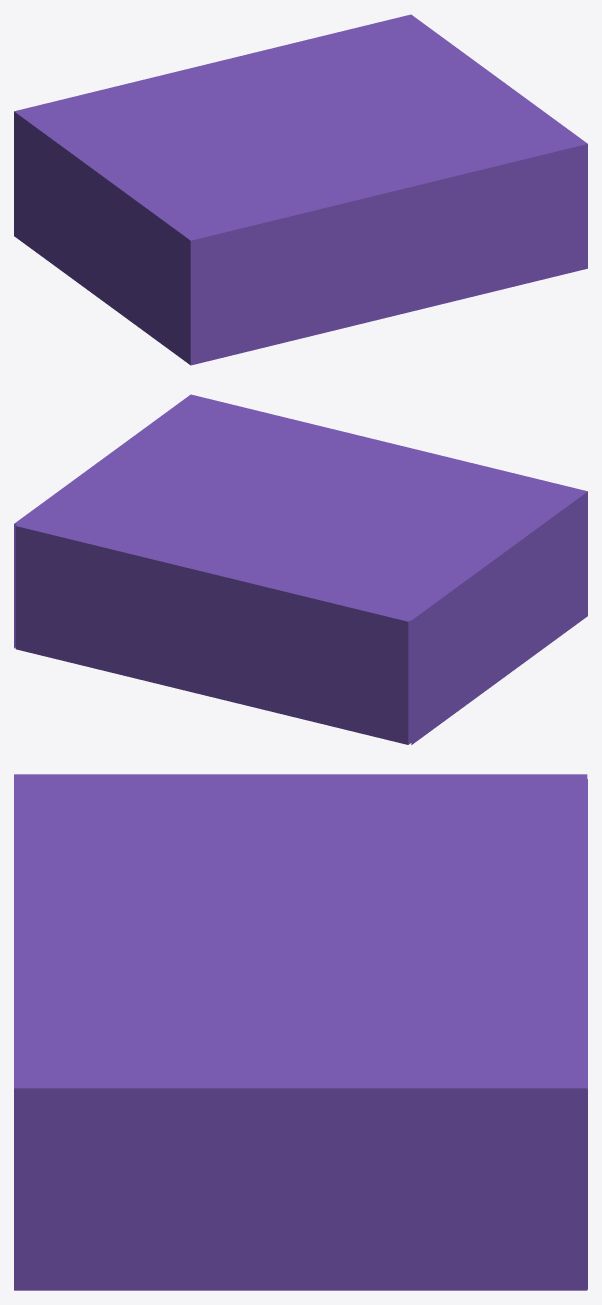
The model's file is Bakery_Box_C.FBX.
The picture shows the model from 3 angles, top to bottom: view 1: azimuth 30°, elevation 25°; view 2: azimuth 150°, elevation 25°; view 3: azimuth 270°, elevation 25°; orthographic projection. The views are drawn at different scales.
Parts seen in each view (by area): view 1: Lid; view 2: Lid, Bakery_Box; view 3: Lid.
Boxes of the visible parts, box(x1,y1,x2,y2) form: Lid: box(14, 14, 587, 365); Lid: box(14, 394, 587, 744); Bakery_Box: box(15, 524, 411, 744); Lid: box(14, 774, 587, 1290).
Size of the model in its own units: 152 by 45.57 by 117.
